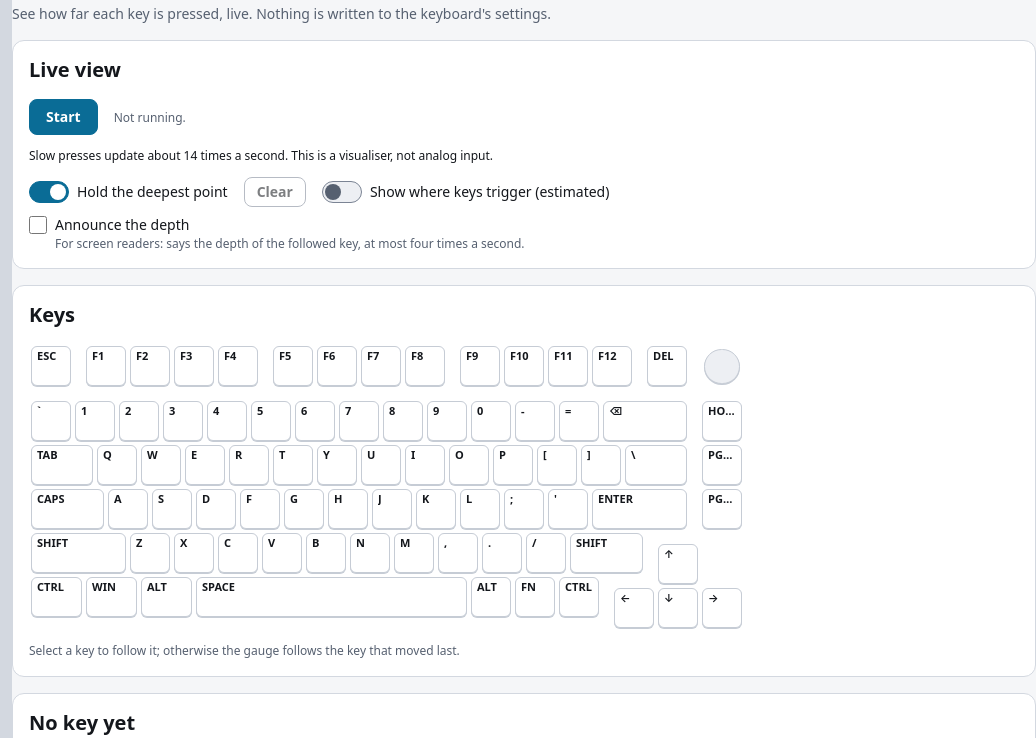
Test case: starting › shows a refused start as an error
Click the button "Start" at {"x": 63, "y": 117}, box [29,99,98,135]
(page scrolled)
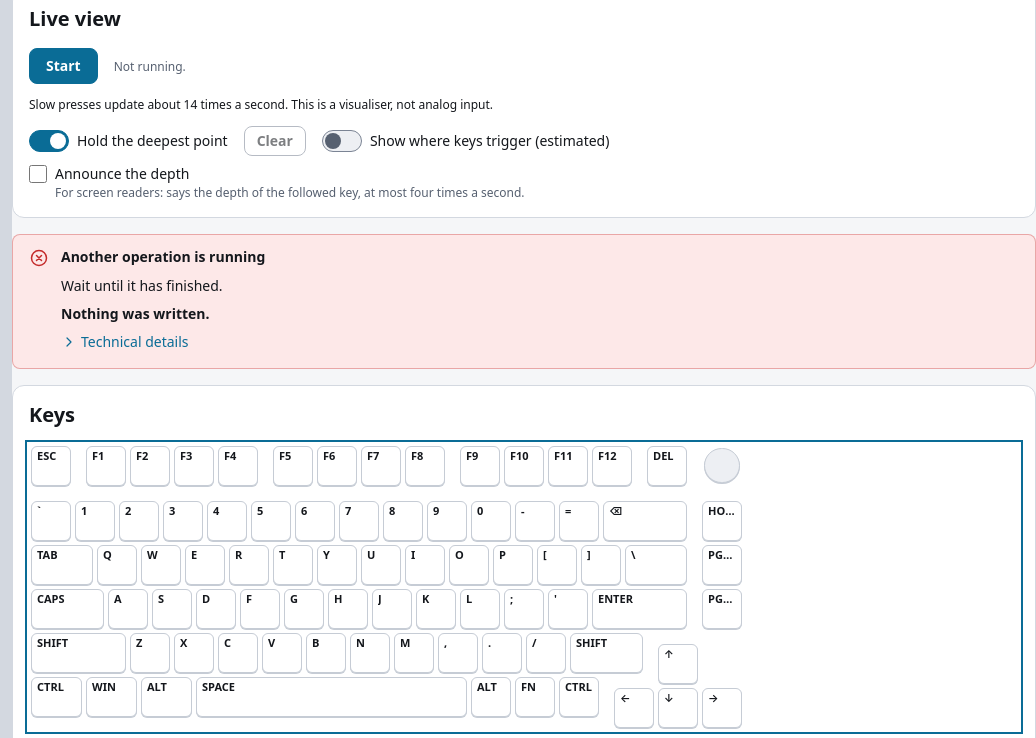
expect the button "Start" is shown: met, box [29,48,98,84]
expect the text "Another operation is running" is shown: met, box [61,247,265,266]
